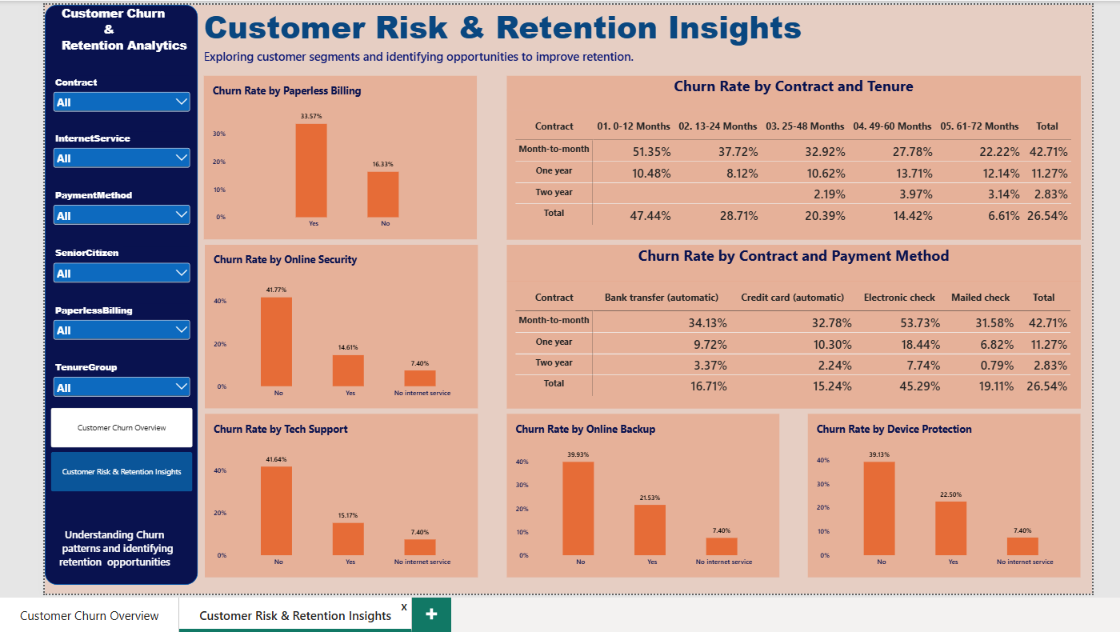

The dashboard page shown, as its layout file describes it:
{"tool":"powerbi","page":{"name":"Customer Risk & Retention Insights","canvas":[1920,1080],"ordinal":1},"visuals":[{"type":"shape","box":[0,0,280.6,1063.9],"z":0},{"type":"textbox","box":[291.6,0,1179.4,130.2],"z":1000},{"type":"textbox","box":[0,0,280.6,91.7],"z":2000},{"type":"clusteredColumnChart","title":"Churn Rate by Paperless Billing","fields":{"Y":["Cleaned Csv.Churn Rate %"],"Category":["Cleaned Csv.PaperlessBilling"]},"box":[291.6,130.2,500.7,300],"z":3000},{"type":"slicer","fields":{"Values":["Cleaned Csv.Contract"]},"box":[11,130.2,260.5,84.4],"z":4000},{"type":"slicer","fields":{"Values":["Cleaned Csv.InternetService"]},"box":[11,233.3,260.5,86.2],"z":5000},{"type":"slicer","fields":{"Values":["Cleaned Csv.PaymentMethod"]},"box":[11,338.2,260.5,86.2],"z":6000},{"type":"slicer","fields":{"Values":["Cleaned Csv.SeniorCitizen"]},"box":[11,443.2,260.5,86.2],"z":7000},{"type":"slicer","fields":{"Values":["Cleaned Csv.TenureGroup"]},"box":[11,653,260.5,86.2],"z":8000},{"type":"slicer","fields":{"Values":["Cleaned Csv.PaperlessBilling"]},"box":[11,548.1,260.5,86.2],"z":9000},{"type":"textbox","box":[11,959.3,260.5,88],"z":10000},{"type":"pivotTable","fields":{"Rows":["Cleaned Csv.Contract"],"Columns":["Cleaned Csv.TenureGroup"],"Values":["Cleaned Csv.Churn Rate %"]},"box":[847.4,192.6,1052.9,238.5],"z":11000},{"type":"textbox","box":[847.4,130.2,1052.9,62.4],"z":12000},{"type":"pivotTable","fields":{"Rows":["Cleaned Csv.Contract"],"Values":["Cleaned Csv.Churn Rate %"],"Columns":["Cleaned Csv.PaymentMethod"]},"box":[847.4,506.3,1052.9,234.8],"z":13000},{"type":"textbox","box":[847.4,440.2,1052.9,66],"z":14000},{"type":"clusteredColumnChart","title":"Churn Rate  by Online Security","fields":{"Y":["Cleaned Csv.Churn Rate %"],"Category":["Cleaned Csv.OnlineSecurity"]},"box":[293.5,440.2,500.7,300],"z":15000},{"type":"clusteredColumnChart","title":"Churn Rate  by Tech Support","fields":{"Y":["Cleaned Csv.Churn Rate %"],"Category":["Cleaned Csv.TechSupport"]},"box":[293.5,750.2,500.7,300],"z":16000},{"type":"clusteredColumnChart","title":"Churn Rate  by Online Backup","fields":{"Category":["Cleaned Csv.OnlineBackup"],"Y":["Cleaned Csv.Churn Rate %"]},"box":[847.4,750.2,500,300],"z":17000},{"type":"clusteredColumnChart","title":"Churn Rate by Device Protection","fields":{"Y":["Cleaned Csv.Churn Rate %"],"Category":["Cleaned Csv.DeviceProtection"]},"box":[1399.5,750.2,500,300],"z":18000},{"type":"pageNavigator","box":[11,739.2,260.5,155.9],"z":19000}]}

Visuals, with their boxes on the page's 1920x1080 design canvas (x1, y1, x2, y2). These are canvas units, not pixel positions in the 1120x632 screenshot, which may show the page scaled, cropped or inside an application window:
shape: bbox=(0, 0, 281, 1064)
textbox: bbox=(292, 0, 1471, 130)
textbox: bbox=(0, 0, 281, 92)
"Churn Rate by Paperless Billing" clusteredColumnChart: bbox=(292, 130, 792, 430)
slicer - Cleaned Csv.Contract: bbox=(11, 130, 272, 215)
slicer - Cleaned Csv.InternetService: bbox=(11, 233, 272, 320)
slicer - Cleaned Csv.PaymentMethod: bbox=(11, 338, 272, 424)
slicer - Cleaned Csv.SeniorCitizen: bbox=(11, 443, 272, 529)
slicer - Cleaned Csv.TenureGroup: bbox=(11, 653, 272, 739)
slicer - Cleaned Csv.PaperlessBilling: bbox=(11, 548, 272, 634)
textbox: bbox=(11, 959, 272, 1047)
pivotTable - Cleaned Csv.Contract x Cleaned Csv.TenureGroup: bbox=(847, 193, 1900, 431)
textbox: bbox=(847, 130, 1900, 193)
pivotTable - Cleaned Csv.Contract x Cleaned Csv.Churn Rate %: bbox=(847, 506, 1900, 741)
textbox: bbox=(847, 440, 1900, 506)
"Churn Rate  by Online Security" clusteredColumnChart: bbox=(294, 440, 794, 740)
"Churn Rate  by Tech Support" clusteredColumnChart: bbox=(294, 750, 794, 1050)
"Churn Rate  by Online Backup" clusteredColumnChart: bbox=(847, 750, 1347, 1050)
"Churn Rate by Device Protection" clusteredColumnChart: bbox=(1400, 750, 1900, 1050)
pageNavigator: bbox=(11, 739, 272, 895)
